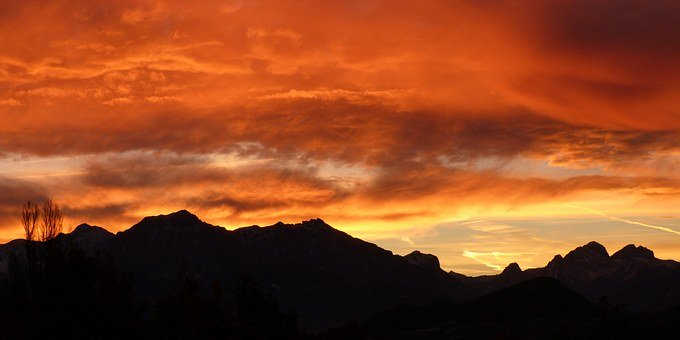mountain: (14, 216, 667, 335)
sky: (5, 6, 678, 233)
